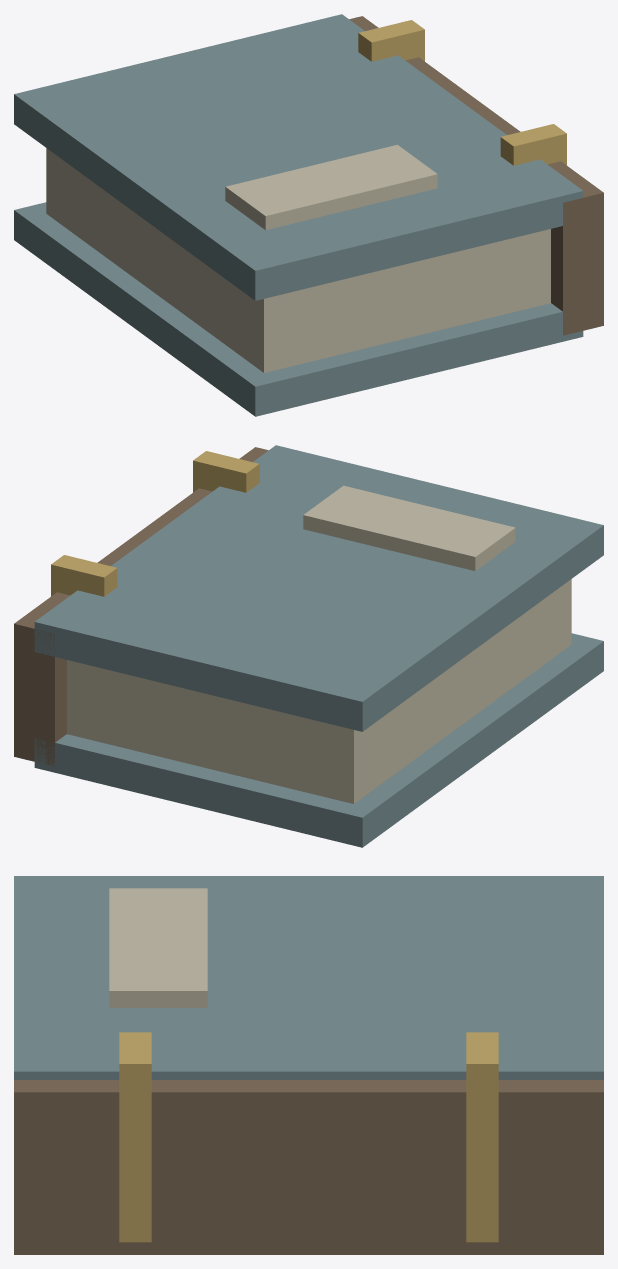
File: spread-portable-codex09.fbx
The picture shows the model from 3 angles, top to bottom: view 1: azimuth 30°, elevation 25°; view 2: azimuth 150°, elevation 25°; view 3: azimuth 270°, elevation 25°; orthographic projection. The views are drawn at different scales.
Parts seen in each view (by area): view 1: spread-portable-codex09__Geometry; view 2: spread-portable-codex09__Geometry; view 3: spread-portable-codex09__Geometry.
Part boxes in pixels (x1=…): spread-portable-codex09__Geometry: x1=14, y1=14, x2=603, y2=416; spread-portable-codex09__Geometry: x1=14, y1=445, x2=603, y2=847; spread-portable-codex09__Geometry: x1=14, y1=876, x2=603, y2=1254.
Size of the model in its own units: 0.4325 by 0.1925 by 0.51.
